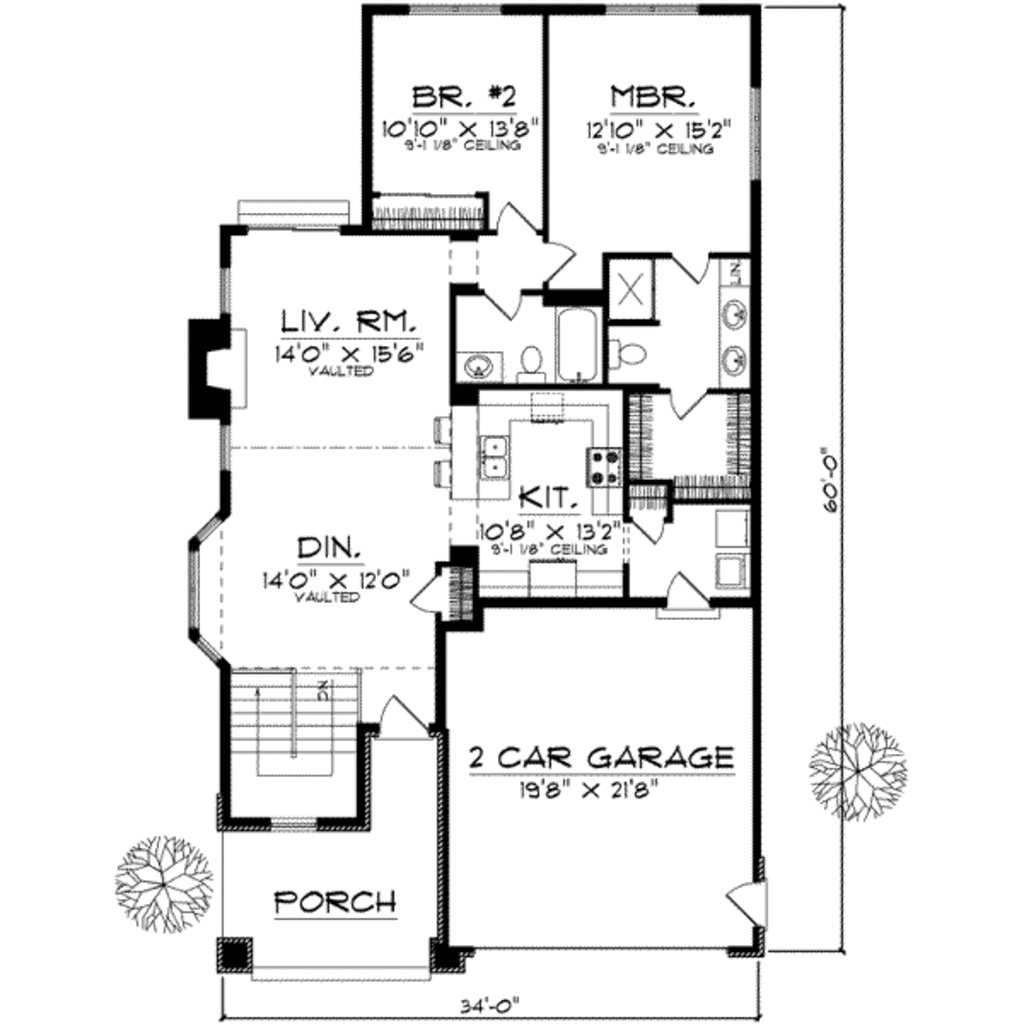door: (345, 689, 428, 738), (705, 881, 769, 935), (658, 571, 717, 622), (405, 574, 466, 622), (663, 247, 723, 290), (658, 378, 710, 424), (475, 282, 528, 324), (486, 200, 542, 238), (537, 236, 577, 285), (629, 508, 661, 549)
kitchen_bar: (432, 403, 523, 509)
large_sink: (594, 328, 653, 374), (507, 341, 547, 389)
small_sink: (704, 274, 752, 389), (453, 349, 498, 381)
stairs: (231, 662, 372, 824)
tub: (559, 309, 604, 385)
twin_sink: (478, 425, 531, 484)
window: (183, 503, 220, 665), (742, 85, 769, 190), (404, 1, 504, 19), (218, 265, 232, 325)
